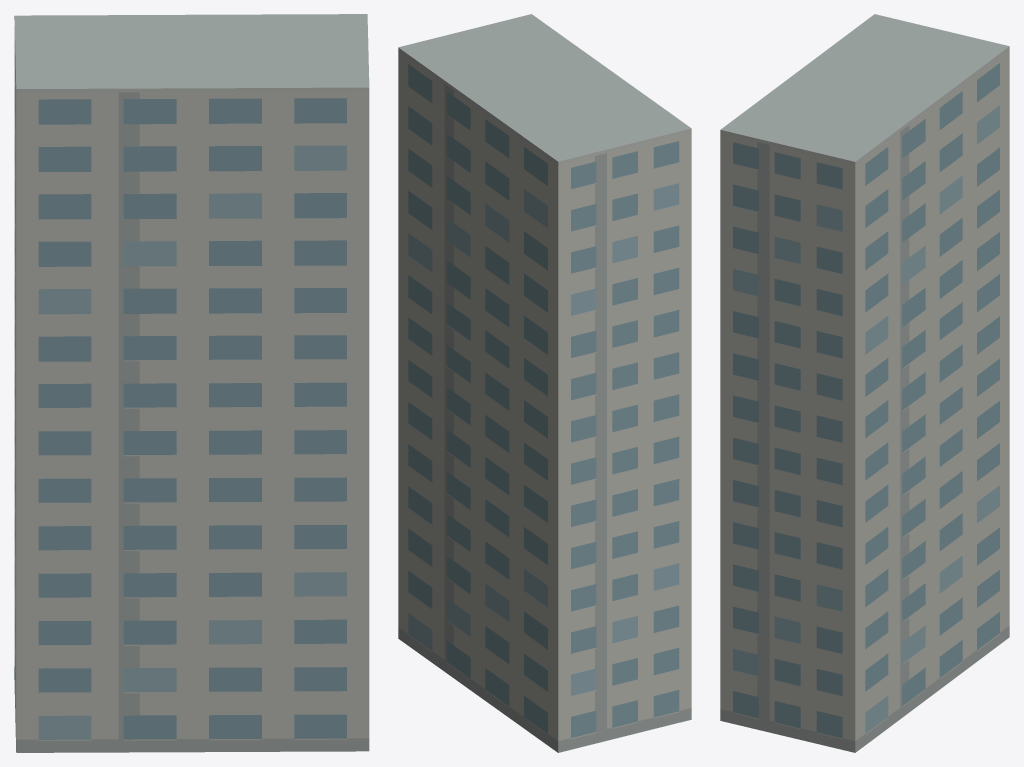
Rendered from residential-e4dd30c6-71bd-487f-8947-134d2ea3b8c2.glb.
3 renders of one model, left to right at view 1: azimuth 30°, elevation 25°; view 2: azimuth 150°, elevation 25°; view 3: azimuth 270°, elevation 25°, orthographic. The views are drawn at different scales.
Visible parts, largest first — view 1: residential-e4dd30c6-71bd-487f-8947-134d2ea3b8c2.tmp; view 2: residential-e4dd30c6-71bd-487f-8947-134d2ea3b8c2.tmp; view 3: residential-e4dd30c6-71bd-487f-8947-134d2ea3b8c2.tmp.
Boxes of the visible parts, x1=… form: residential-e4dd30c6-71bd-487f-8947-134d2ea3b8c2.tmp: x1=14, y1=14, x2=369, y2=752; residential-e4dd30c6-71bd-487f-8947-134d2ea3b8c2.tmp: x1=398, y1=14, x2=691, y2=752; residential-e4dd30c6-71bd-487f-8947-134d2ea3b8c2.tmp: x1=720, y1=14, x2=1009, y2=752.
Size of the model in its own units: 22.55 by 42 by 18.65.
